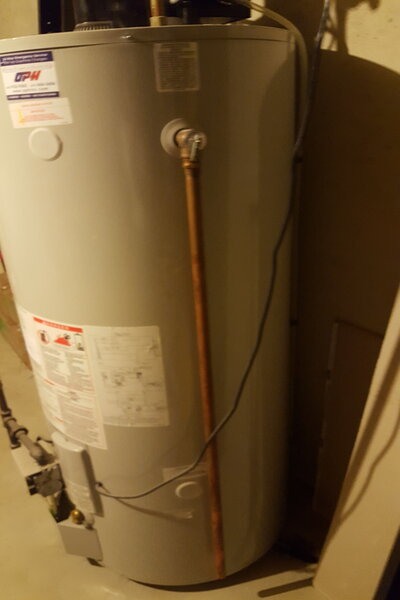valve: (173, 126, 209, 177)
